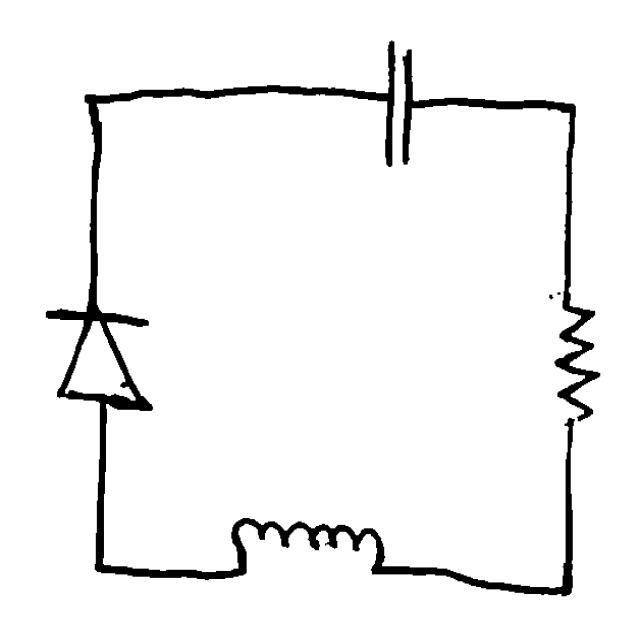capacitor: (374, 24, 423, 174)
diode: (26, 294, 163, 432)
inductor: (218, 498, 397, 596)
resistor: (545, 281, 603, 437)
